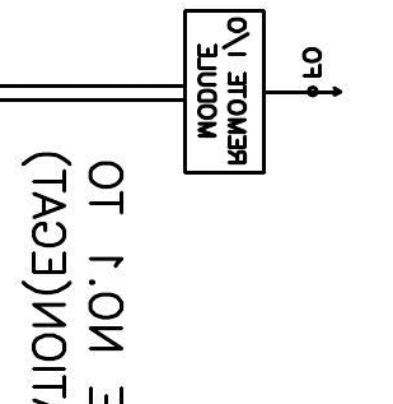remote_io_module: (182, 9, 266, 176)
